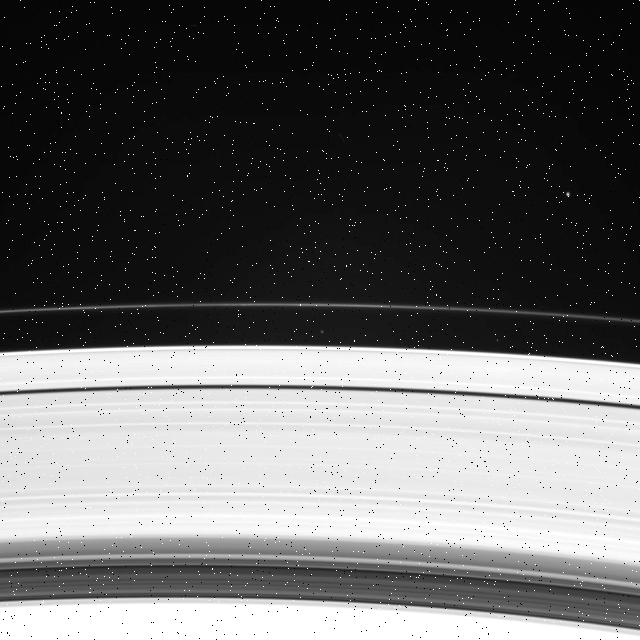Saturn: (0, 300, 640, 640)
